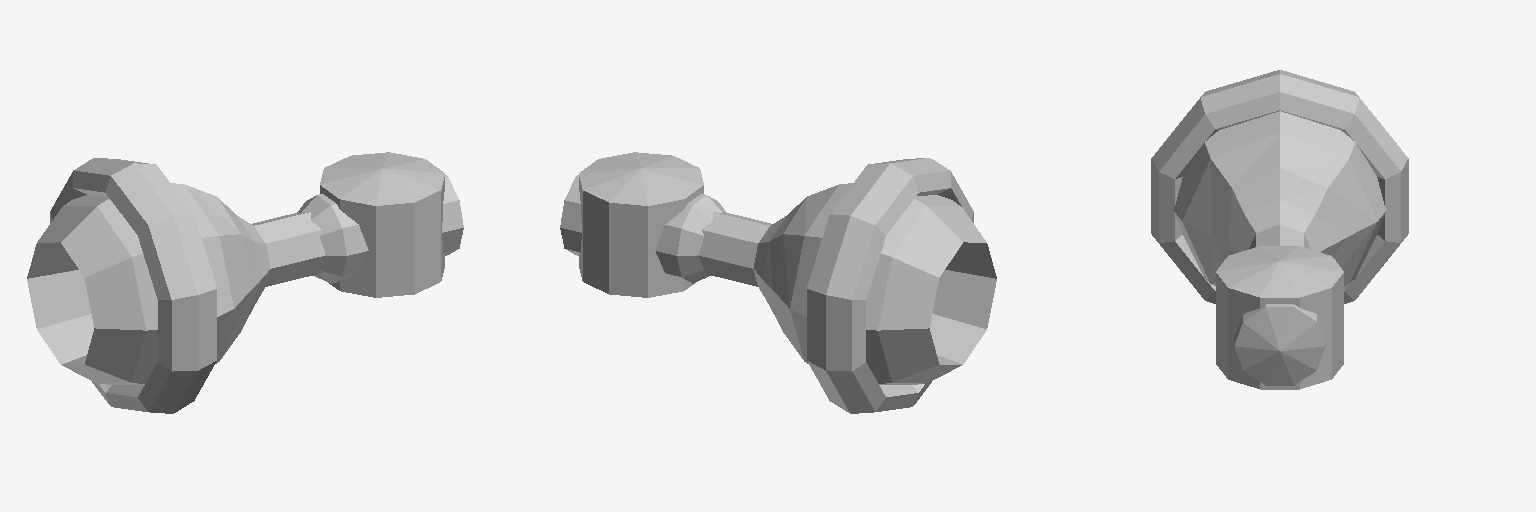
Rendered from starblast-1538466063533.obj.
3 renders of one model, left to right at view 1: azimuth 30°, elevation 25°; view 2: azimuth 150°, elevation 25°; view 3: azimuth 270°, elevation 25°, orthographic.
Bounding box in the file's own units: 2.67 × 1.6 × 1.52.